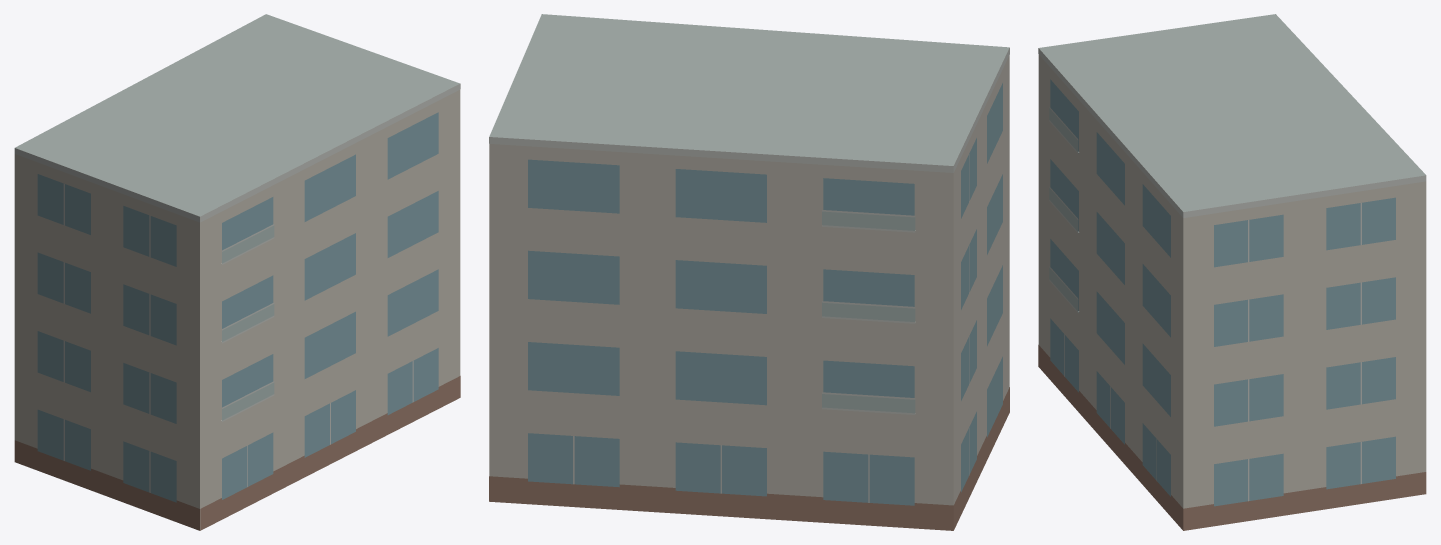
Rendered from survey-upis-32613906.glb.
3 renders of one model, left to right at view 1: azimuth 30°, elevation 25°; view 2: azimuth 150°, elevation 25°; view 3: azimuth 270°, elevation 25°, orthographic. The views are drawn at different scales.
Parts seen in each view (by area): view 1: survey-upis-32613906.tmp; view 2: survey-upis-32613906.tmp; view 3: survey-upis-32613906.tmp.
Part boxes in pixels (bbox=[...]): survey-upis-32613906.tmp: bbox=[14, 14, 460, 530]; survey-upis-32613906.tmp: bbox=[489, 14, 1009, 530]; survey-upis-32613906.tmp: bbox=[1038, 14, 1426, 530].
Size of the model in its own units: 17.21 by 12.9 by 14.24.
